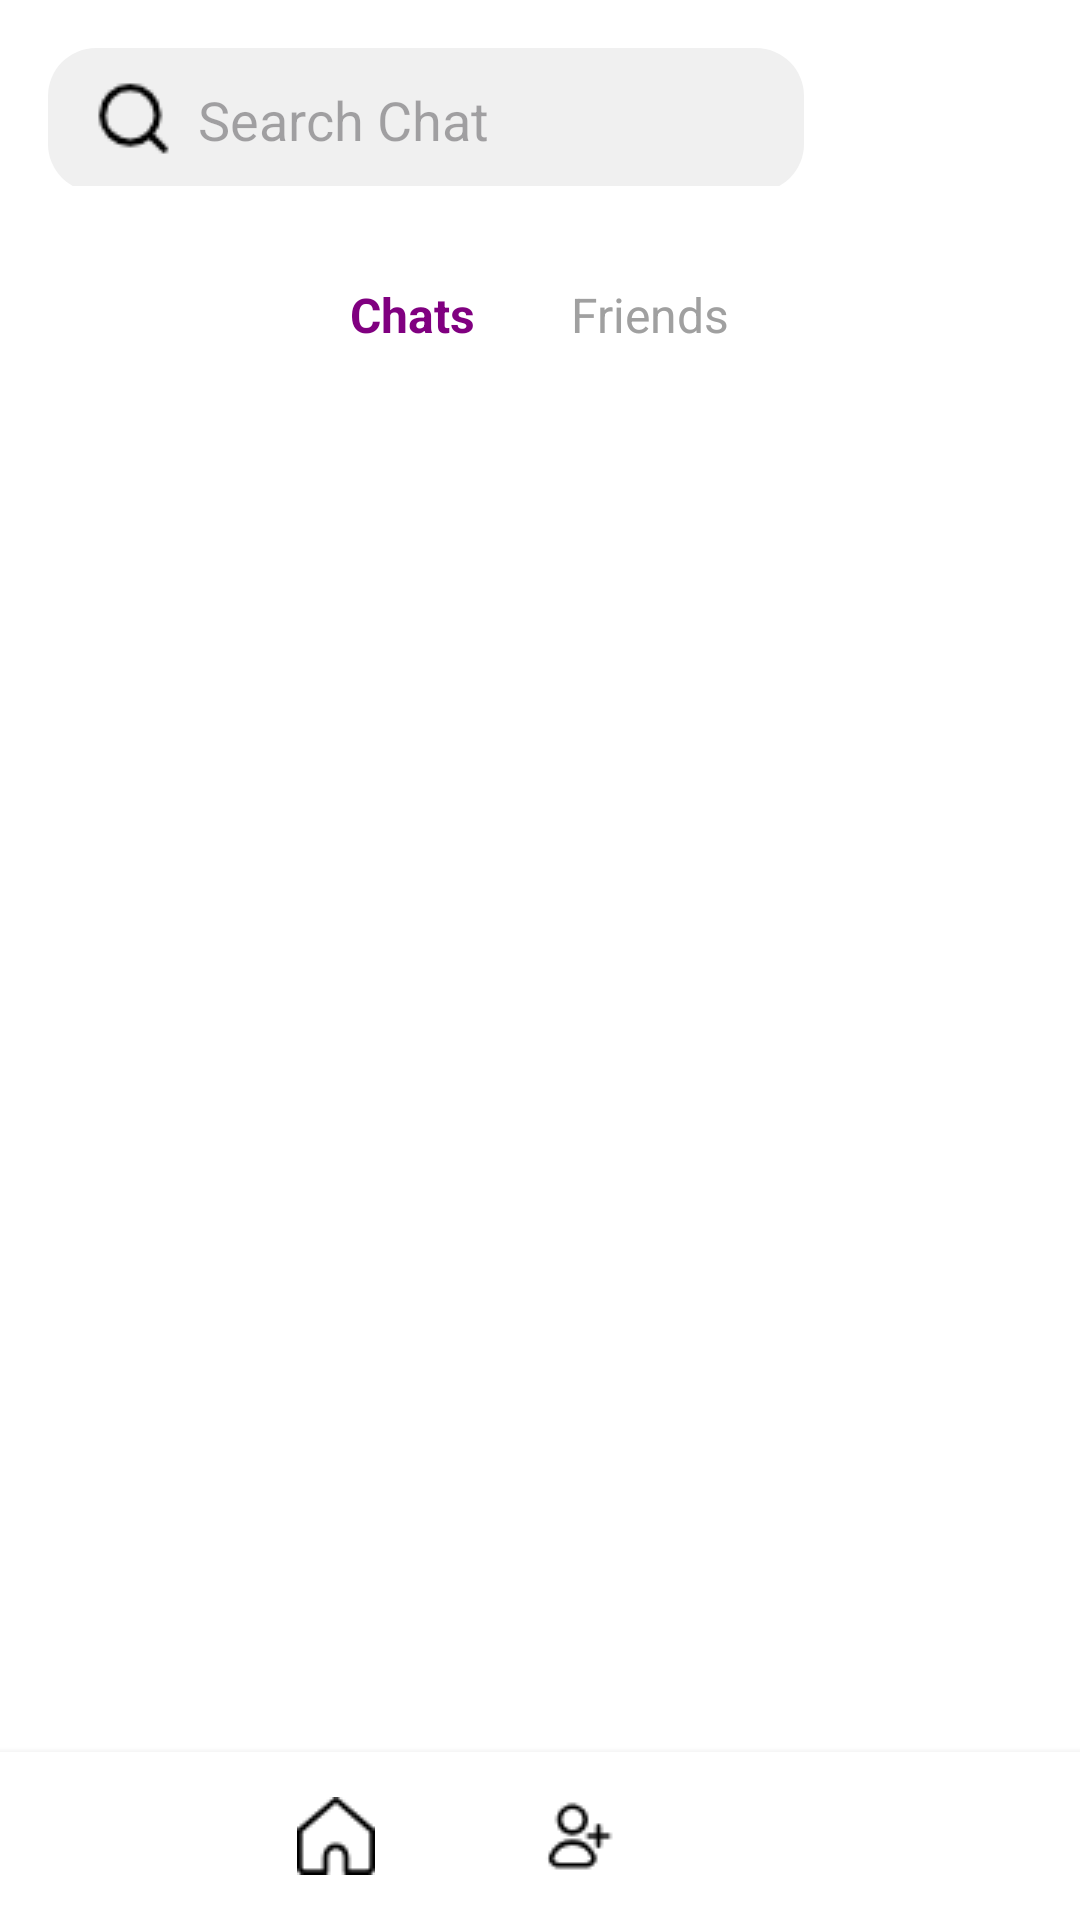

Icons on this 1080×1920 Android screen, each with the point to tap as point (x, y):
Add Friend Icon: point (580, 1836)
Home Icon: point (336, 1836)
